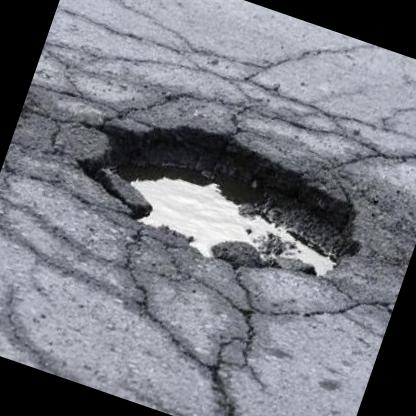pothole: (57, 82, 386, 312)
